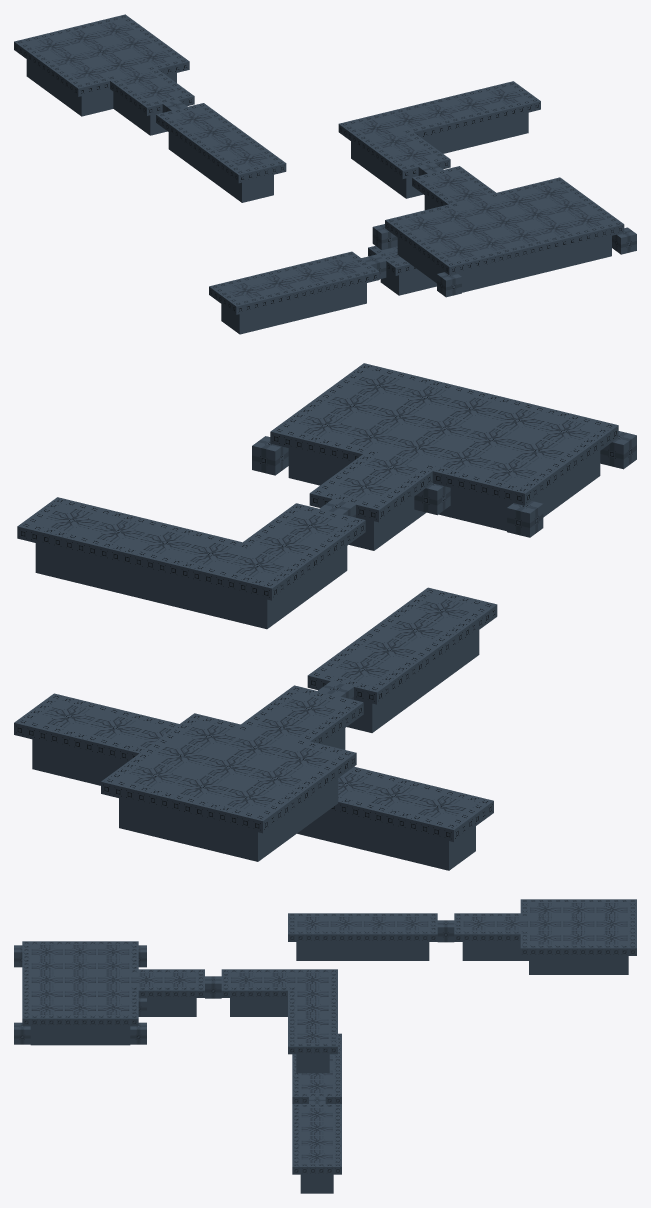
Rendered from ActionMap.fbx.
3 renders of one model, top to bottom at view 1: azimuth 30°, elevation 25°; view 2: azimuth 150°, elevation 25°; view 3: azimuth 270°, elevation 25°, orthographic. The views are drawn at different scales.
Parts seen in each view (by area): view 1: MapTile_A.020, MapTile_A.019, MapTile_A.001, MapTile_A.002, MapTile_A.006, MapTile_A.003, MapTile_A.010, MapTile_A.018, MapTile_A.008, MapTile_A.009, MapTile_A.007, MapTile_C.003 (+19 smaller); view 2: MapTile_A.019, MapTile_A.020, MapTile_A.001, MapTile_A.002, MapTile_A.006, MapTile_A.003, MapTile_A.018, MapTile_A.010, MapTile_A.021, MapTile_A.004, MapTile_A.009, MapTile_C.012 (+27 smaller); view 3: MapTile_A.001, MapTile_A.002, MapTile_A.009, MapTile_A.004, MapTile_A.006, MapTile_A.019, MapTile_A.021, MapTile_A.018, MapTile_C.024, MapTile_A.003, MapTile_A.007, MapTile_A.008 (+16 smaller).
Part boxes in pixels (<box>): MapTile_A.020: <box>221,257,366,334</box>; MapTile_A.019: <box>383,86,528,153</box>; MapTile_A.001: <box>168,108,273,202</box>; MapTile_A.002: <box>58,27,181,135</box>; MapTile_A.006: <box>424,171,548,279</box>; MapTile_A.003: <box>26,35,113,116</box>; MapTile_A.010: <box>397,213,484,292</box>; MapTile_A.018: <box>351,117,437,198</box>; MapTile_A.008: <box>430,206,516,286</box>; MapTile_A.009: <box>525,182,611,263</box>; MapTile_A.007: <box>493,190,579,271</box>; MapTile_C.003: <box>444,221,624,275</box>; MapTile_A.019: <box>35,505,246,617</box>; MapTile_A.020: <box>297,771,475,870</box>; MapTile_A.001: <box>326,595,479,732</box>; MapTile_A.002: <box>165,693,345,850</box>; MapTile_A.006: <box>328,393,507,550</box>; MapTile_A.003: <box>211,743,338,861</box>; MapTile_A.018: <box>221,511,347,629</box>; MapTile_A.010: <box>474,416,600,531</box>; MapTile_A.021: <box>32,701,172,785</box>; MapTile_A.004: <box>119,721,245,839</box>; MapTile_A.009: <box>288,371,414,485</box>; MapTile_C.012: <box>17,521,266,597</box>; MapTile_A.001: <box>296,916,429,960</box>; MapTile_A.002: <box>462,916,628,960</box>; MapTile_A.009: <box>30,1001,130,1045</box>; MapTile_A.004: <box>529,931,628,974</box>; MapTile_A.006: <box>30,973,196,1016</box>; MapTile_A.019: <box>296,987,329,1073</box>; MapTile_A.021: <box>300,1107,333,1193</box>; MapTile_A.018: <box>230,973,329,1016</box>; MapTile_C.024: <box>288,931,437,941</box>; MapTile_A.003: <box>529,902,628,916</box>; MapTile_A.007: <box>30,987,130,1000</box>; MapTile_A.008: <box>30,959,130,972</box>.
Size of the model in its own units: 8400 by 4000 by 15000.
3 materials, 3 textured.
